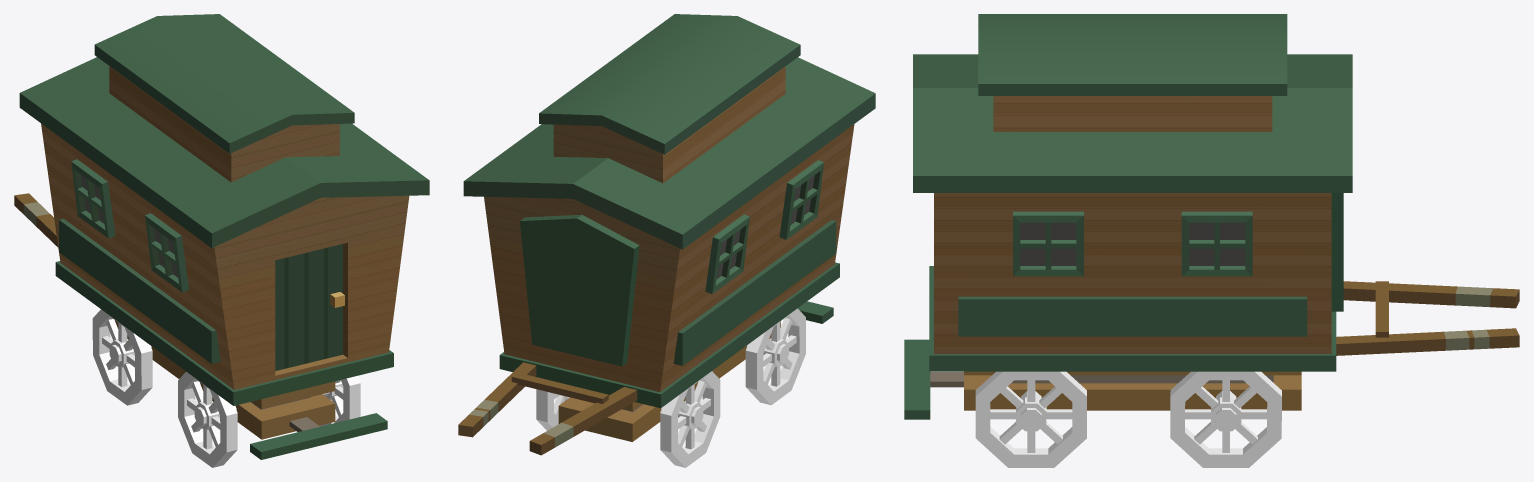
The model's file is SF_Veh_HouseWagon_01.gltf.
3 views of the same model, side by side, from view 1: azimuth 30°, elevation 25°; view 2: azimuth 150°, elevation 25°; view 3: azimuth 270°, elevation 25° (orthographic). The views are drawn at different scales.
Parts seen in each view (by area): view 1: SF_Veh_HouseWagon_01, SF_Veh_HouseWheel_Back, SF_Veh_HouseWheel_Front; view 2: SF_Veh_HouseWagon_01, SF_Veh_HouseWheel_Front, SF_Veh_HouseWheel_Back; view 3: SF_Veh_HouseWagon_01, SF_Veh_HouseWheel_Back, SF_Veh_HouseWheel_Front.
Boxes of the visible parts, x1,y1,x2,y2 form: SF_Veh_HouseWagon_01: (14,14,429,459); SF_Veh_HouseWheel_Back: (178,371,360,467); SF_Veh_HouseWheel_Front: (92,309,152,405); SF_Veh_HouseWagon_01: (458,14,875,455); SF_Veh_HouseWheel_Front: (536,371,720,467); SF_Veh_HouseWheel_Back: (745,308,805,405); SF_Veh_HouseWagon_01: (904,14,1519,419); SF_Veh_HouseWheel_Back: (975,371,1086,467); SF_Veh_HouseWheel_Front: (1170,371,1281,467).
Size of the model in its own units: 0.0405 by 0.0617 by 0.0867.
Materials: 2 (1 with a texture image).
